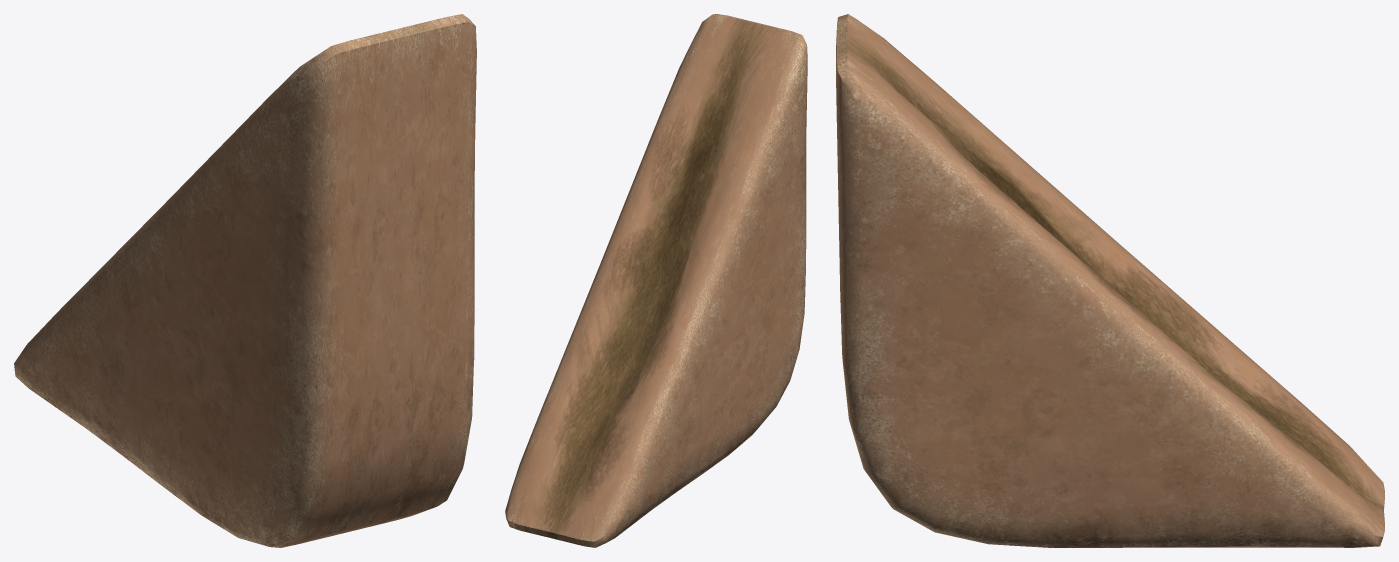
Rendered from SlopeTriple.fbx.
The picture shows the model from 3 angles, left to right: view 1: azimuth 30°, elevation 25°; view 2: azimuth 150°, elevation 25°; view 3: azimuth 270°, elevation 25°; orthographic projection. The views are drawn at different scales.
Visible parts, largest first — view 1: SlopeSingleSize3; view 2: SlopeSingleSize3; view 3: SlopeSingleSize3.
Boxes of the visible parts, x1,y1,x2,y2 form: SlopeSingleSize3: [14, 14, 476, 547]; SlopeSingleSize3: [505, 14, 807, 547]; SlopeSingleSize3: [836, 14, 1384, 547].
Bounding box in the file's own units: 198 × 581 × 601.
